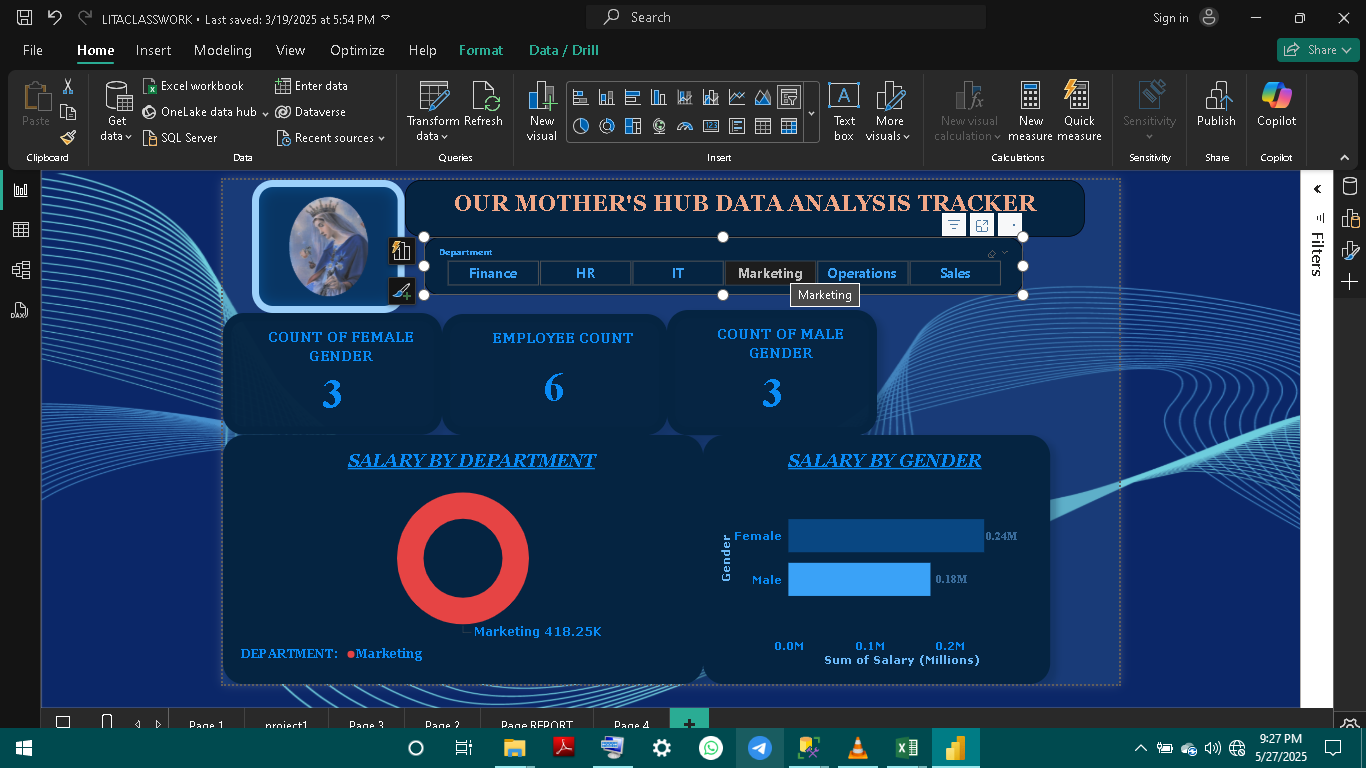

The page's visual inventory and layout, read from the dashboard file:
{"tool":"powerbi","page":{"name":"Page REPORT","canvas":[1280,720],"ordinal":0},"visuals":[{"type":"card","title":"EMPLOYEE COUNT","fields":{"Values":["HR_Employee_Data.Measure 2"]},"box":[312.9,190,321.4,174.3],"z":0},{"type":"card","title":" COUNT OF MALE GENDER","fields":{"Values":["Count(HR_Employee_Data)"]},"box":[634.3,185.7,300,178.6],"z":1000},{"type":"card","title":" COUNT OF FEMALE GENDER","fields":{"Values":["Count(HR_Employee_Data)"]},"box":[0,190,312.9,174.3],"z":2000},{"type":"textbox","box":[260,0,971.4,81.4],"z":3000},{"type":"image","box":[41.7,0,218.3,190],"z":4000},{"type":"donutChart","title":"SALARY BY DEPARTMENT","fields":{"Y":["Sum(HR_Employee_Data.Salary)"],"Category":["HR_Employee_Data.Department"]},"box":[0,364.3,685.7,355.7],"z":5000},{"type":"clusteredBarChart","title":"SALARY BY GENDER","fields":{"Y":["Sum(HR_Employee_Data.Salary)"],"Category":["HR_Employee_Data.Gender"]},"box":[685.7,364.3,495.7,355.7],"z":6000},{"type":"slicer","fields":{"Values":["HR_Employee_Data.Department"]},"box":[287.1,81.4,855.7,82.9],"z":7000}]}

Visuals, with their boxes on the page's 1280x720 design canvas (x1, y1, x2, y2). These are canvas units, not pixel positions in the 1366x768 screenshot, which may show the page scaled, cropped or inside an application window:
"EMPLOYEE COUNT" card: locate(313, 190, 634, 364)
" COUNT OF MALE GENDER" card: locate(634, 186, 934, 364)
" COUNT OF FEMALE GENDER" card: locate(0, 190, 313, 364)
textbox: locate(260, 0, 1231, 81)
image: locate(42, 0, 260, 190)
"SALARY BY DEPARTMENT" donutChart: locate(0, 364, 686, 720)
"SALARY BY GENDER" clusteredBarChart: locate(686, 364, 1181, 720)
slicer - HR_Employee_Data.Department: locate(287, 81, 1143, 164)
